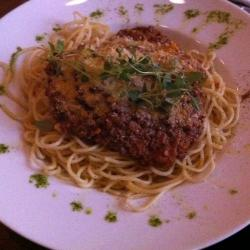bolonese_pasta: (27, 19, 237, 197)
